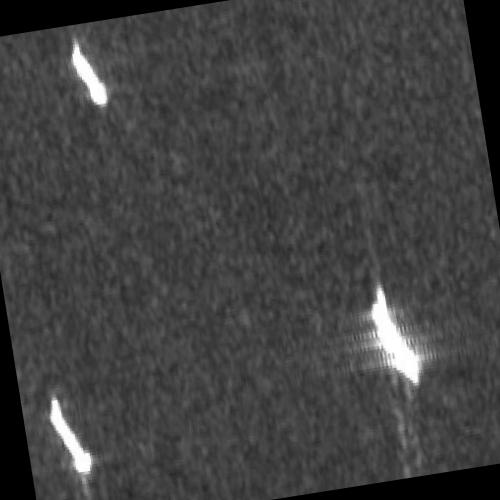ship: (371, 283, 421, 386), (49, 398, 92, 474), (70, 39, 108, 107)
